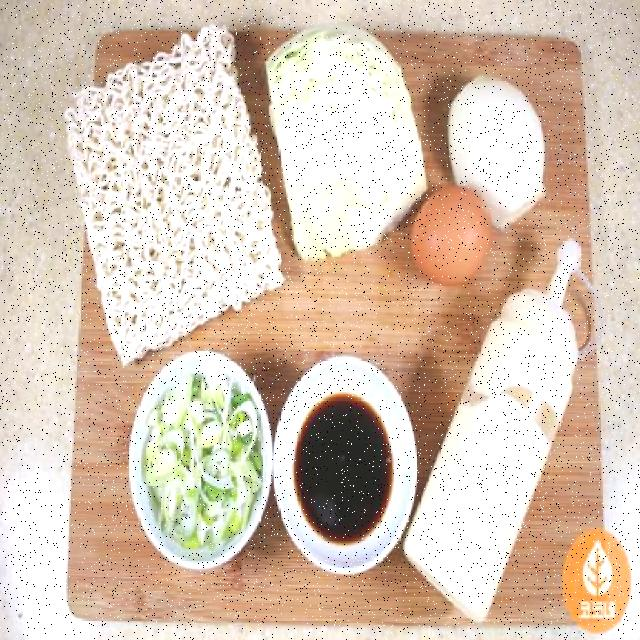Cabbage: (266, 25, 425, 254)
Egg: (414, 182, 495, 289)
Mayonnaise: (429, 259, 573, 616)
Noodles: (29, 48, 286, 366)
Onion: (429, 62, 582, 203)
Onion Leaves: (149, 378, 239, 536)
Soy Sauce: (287, 366, 404, 556)
